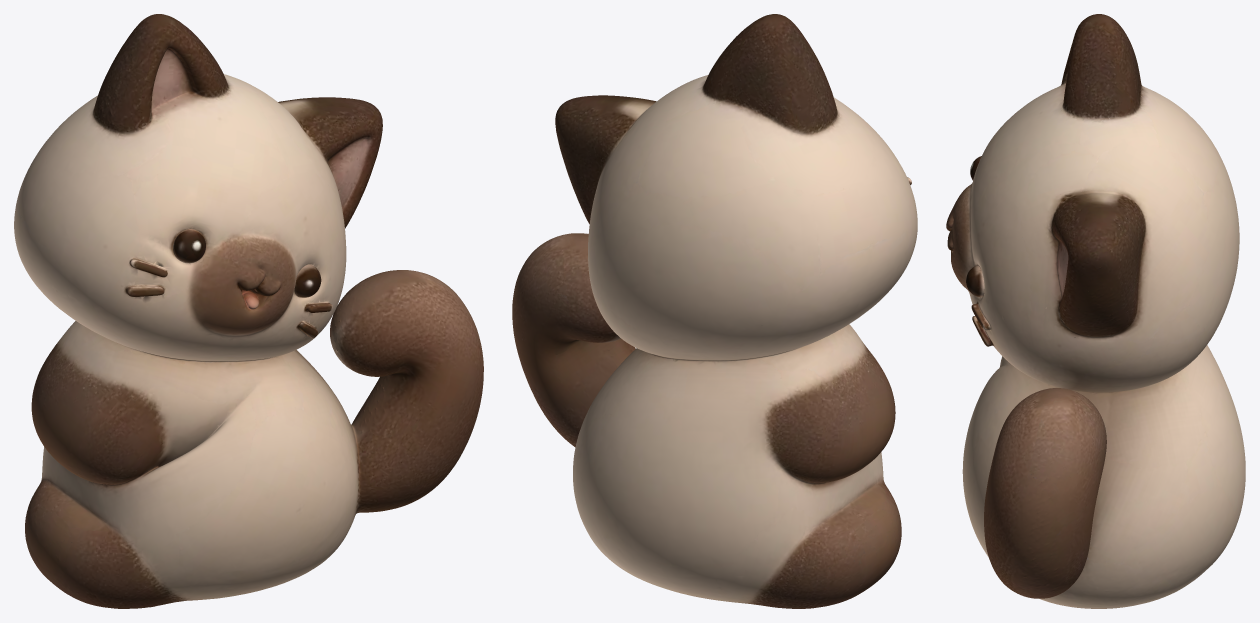
File: cat-2.glb
The picture shows the model from 3 angles, left to right: view 1: azimuth 30°, elevation 25°; view 2: azimuth 150°, elevation 25°; view 3: azimuth 270°, elevation 25°; orthographic projection. The views are drawn at different scales.
Parts seen in each view (by area): view 1: node_0; view 2: node_0; view 3: node_0.
Part boxes in pixels (left/top/right/bottom): node_0: left=14, top=14, right=483, bottom=608; node_0: left=512, top=14, right=917, bottom=608; node_0: left=946, top=14, right=1245, bottom=608.
Bounding box in the file's own units: 0.7825 × 1.02 × 0.5226.
1 material, 1 textured.
